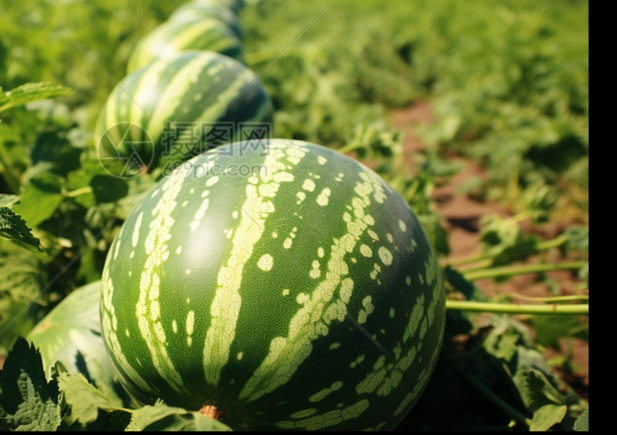watermelon: (100, 142, 442, 427), (96, 48, 274, 175)
